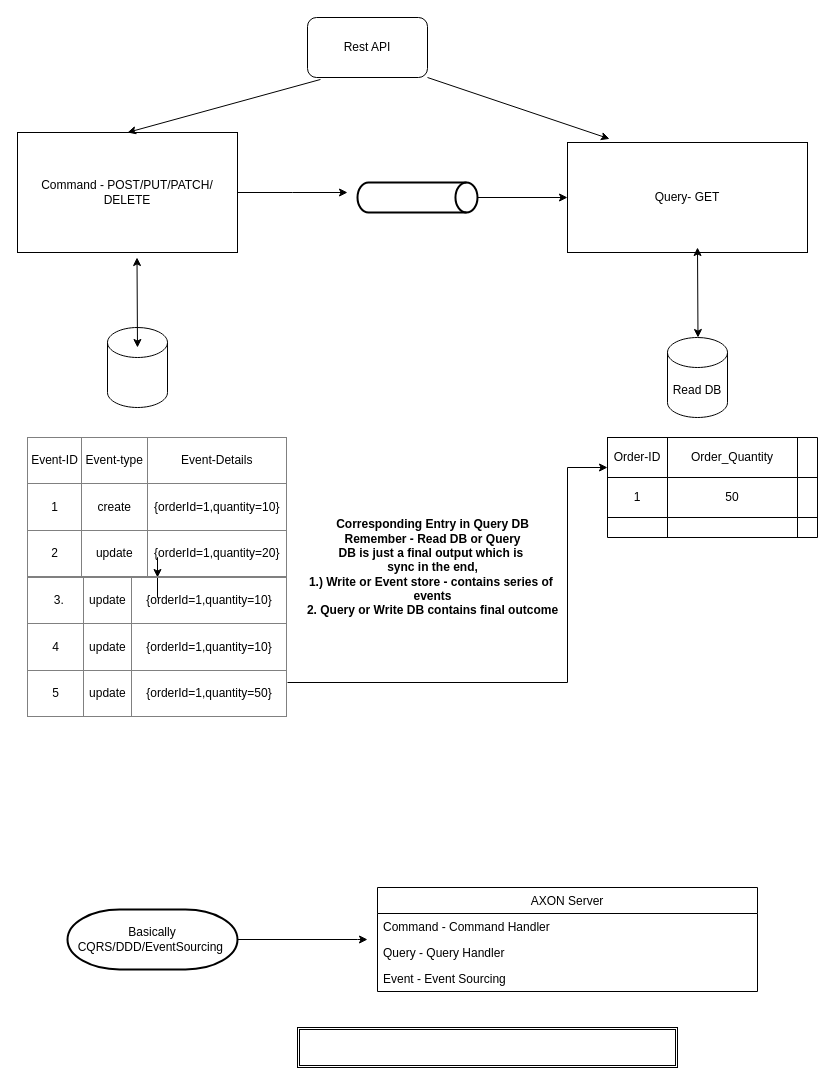
Some shapes in this 835 by 1085 pixel diagram are drawn without their labels. The shapes that lost their labels are listed below. From the top down, each one's centre as x and y in pixels, then its label:
[417,197]: Message Broker, to sync the DB
[137,367]: EVENT STORE / Write DB
[487,1047]: API Gateway
